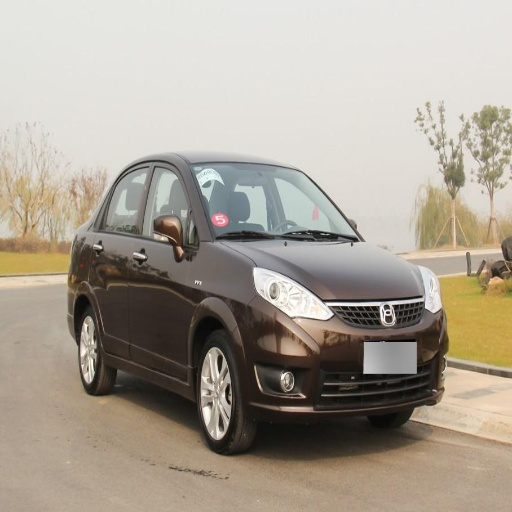front_bumper: (241, 295, 444, 420)
front_right_door: (130, 161, 198, 380)
front_right_light: (255, 269, 330, 319)
